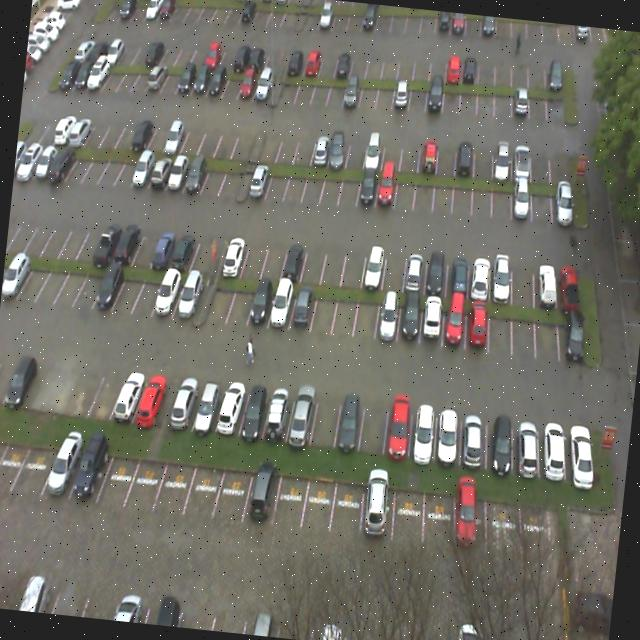empty: (96, 443, 140, 512), (122, 448, 164, 514), (10, 438, 54, 500), (182, 460, 225, 519), (210, 466, 252, 526), (152, 453, 194, 512), (298, 475, 336, 539), (41, 357, 78, 418), (109, 258, 146, 318), (273, 470, 308, 533), (85, 365, 122, 423), (61, 362, 98, 419), (130, 256, 163, 318), (222, 272, 256, 332), (308, 390, 340, 452), (358, 394, 389, 456), (508, 303, 540, 357), (203, 270, 230, 332), (510, 252, 540, 306), (0, 436, 28, 492), (128, 222, 161, 268), (310, 285, 338, 339), (486, 302, 514, 356), (198, 150, 228, 199), (330, 288, 358, 340), (532, 308, 561, 358), (297, 238, 326, 284), (192, 232, 222, 276), (235, 235, 264, 280), (217, 155, 244, 201), (260, 235, 288, 278), (355, 290, 379, 340), (320, 240, 346, 284), (338, 242, 364, 286), (393, 168, 418, 212), (301, 161, 324, 207), (318, 165, 342, 209), (381, 248, 406, 290), (284, 161, 306, 207), (266, 160, 290, 202), (530, 181, 555, 221), (492, 180, 516, 220), (414, 171, 436, 214), (432, 174, 456, 213), (452, 177, 476, 216), (472, 177, 495, 215), (338, 168, 358, 206)
occupied: (64, 444, 111, 509), (38, 442, 82, 506), (558, 413, 598, 478), (508, 412, 546, 478), (212, 378, 252, 440), (242, 466, 282, 526), (535, 412, 570, 477), (484, 408, 518, 472), (458, 408, 493, 468), (433, 406, 467, 467), (260, 386, 294, 445), (148, 266, 182, 324), (554, 304, 589, 360), (130, 374, 166, 428), (109, 366, 143, 423), (237, 382, 271, 439), (265, 274, 297, 334), (190, 374, 223, 432), (383, 396, 414, 456), (409, 403, 440, 462), (171, 266, 202, 324), (284, 388, 315, 446), (242, 277, 274, 333), (332, 393, 364, 449), (92, 256, 123, 313), (167, 376, 199, 428), (466, 247, 496, 300), (110, 222, 144, 266), (147, 224, 178, 272), (462, 302, 492, 351), (534, 255, 562, 307), (418, 294, 446, 346), (556, 260, 586, 308), (446, 248, 473, 300), (288, 282, 314, 336), (374, 292, 401, 344), (163, 148, 192, 196), (548, 178, 578, 224), (168, 229, 200, 272), (182, 149, 210, 198), (400, 245, 429, 292), (425, 242, 451, 294), (396, 294, 422, 346), (489, 252, 516, 302), (147, 146, 176, 192), (442, 300, 468, 350), (245, 155, 272, 202), (360, 241, 385, 290), (218, 235, 246, 277), (278, 238, 306, 280), (512, 176, 536, 222), (355, 168, 378, 210), (376, 169, 396, 207)
